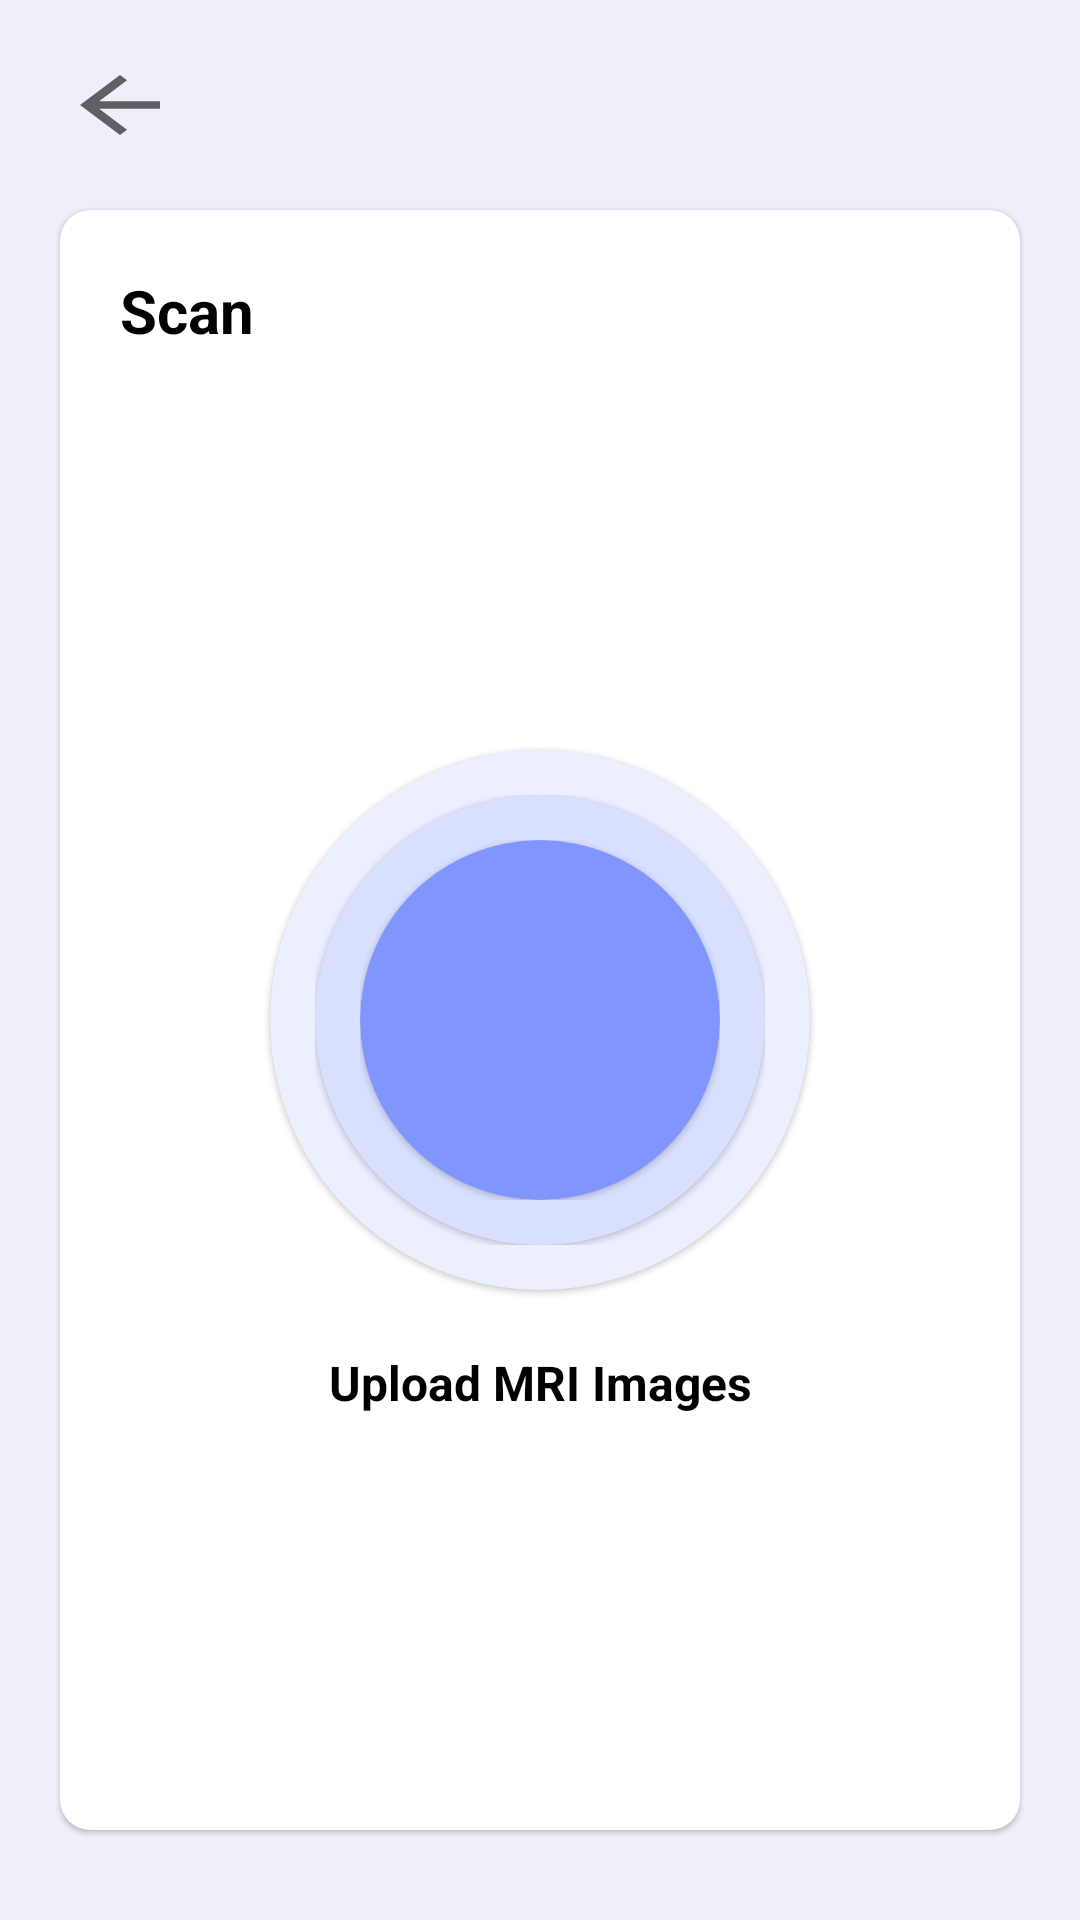

Icons on this 1080×1920 Android screen, each with its box as (x1=x1, y1=y1, x2=x2, y2=y2):
arrow back: (x1=80, y1=75, x2=160, y2=135)
